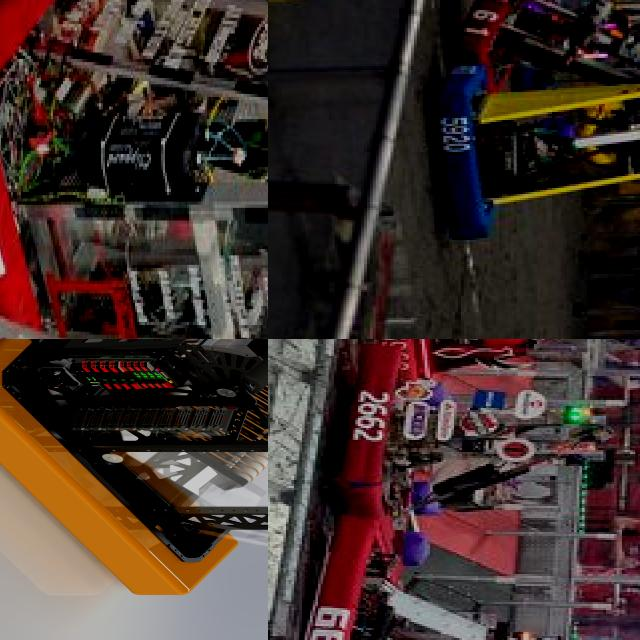FRC-Robots: (0, 0, 268, 339), (0, 339, 268, 608), (306, 370, 630, 508), (424, 83, 640, 255), (268, 563, 579, 640), (437, 0, 640, 62)
